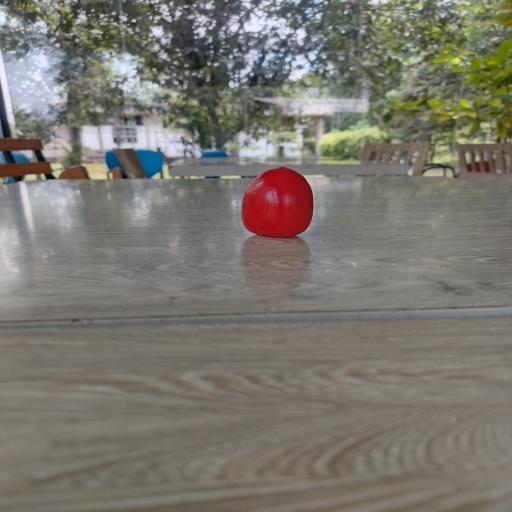spoiled: (242, 167, 313, 237)
